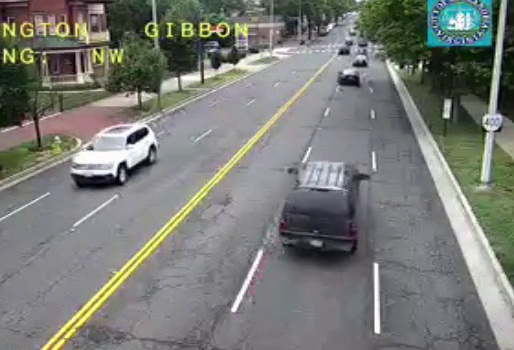car: (279, 162, 357, 254), (338, 69, 360, 86)
